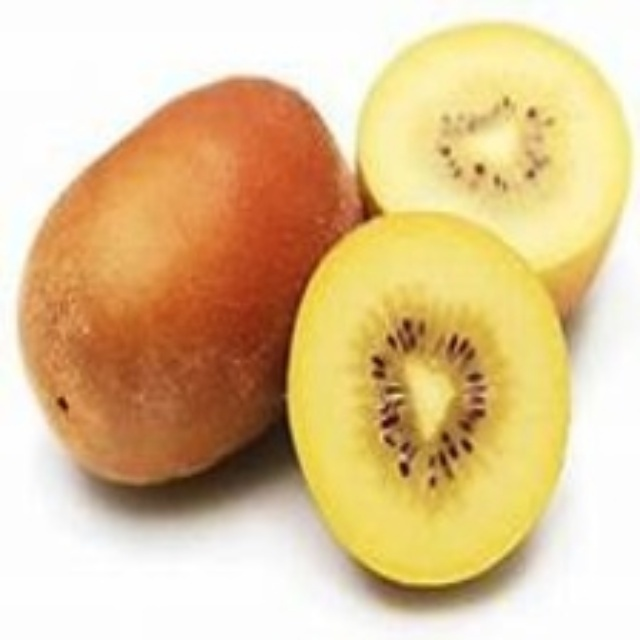kiwi: (25, 53, 360, 509), (289, 212, 567, 593), (372, 26, 629, 314)
